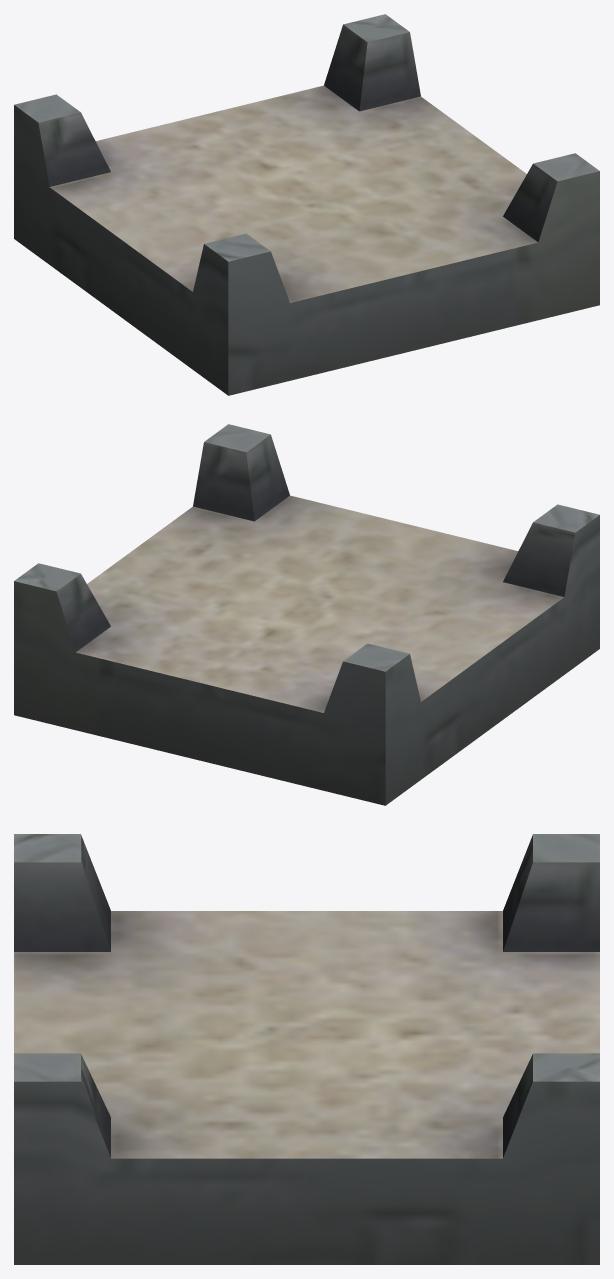
Rendered from med_tile_crossroads.obj.
3 views of the same model, one above another, from view 1: azimuth 30°, elevation 25°; view 2: azimuth 150°, elevation 25°; view 3: azimuth 270°, elevation 25° (orthographic). The views are drawn at different scales.
Visible parts, largest first — view 1: mid; view 2: mid; view 3: mid.
Part boxes in pixels (x1,y1,x2,y2): mid: (14,14,599,395); mid: (14,424,599,805); mid: (14,834,599,1264).
Bounding box in the file's own units: 1 × 0.345 × 1.
1 material, 1 textured.
